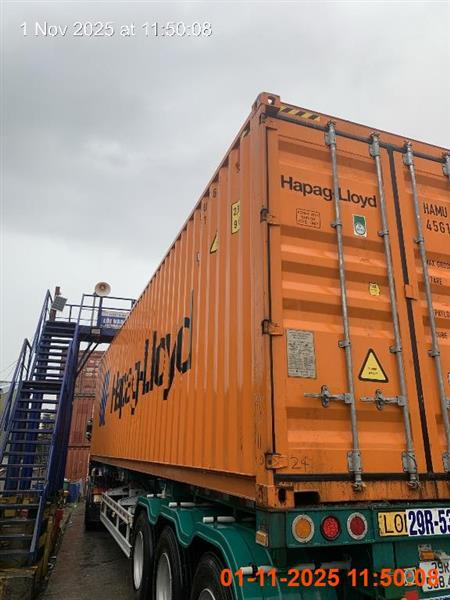crack: (84, 92, 448, 599)
